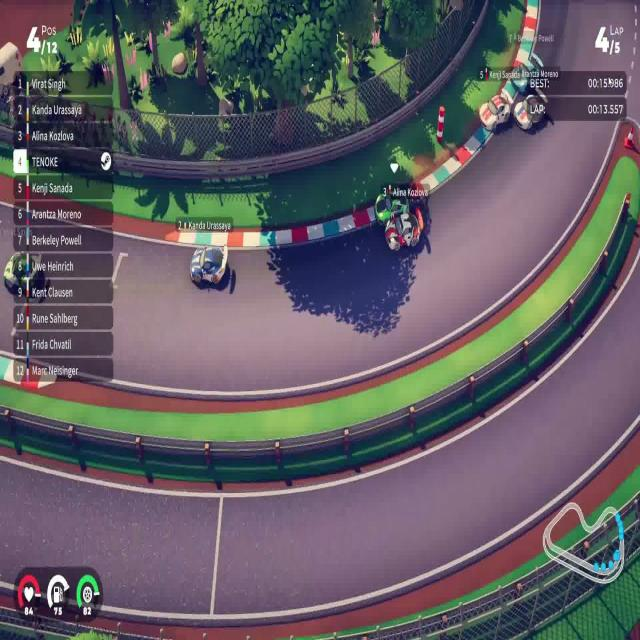car: (189, 242, 229, 288), (384, 208, 422, 251), (478, 89, 512, 132)
